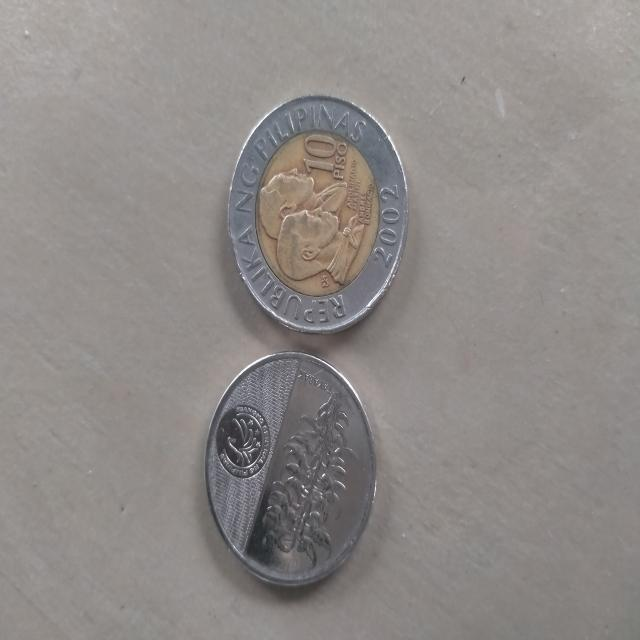10_Old_Front: (256, 120, 387, 305)
5_New_Back: (218, 370, 354, 571)
